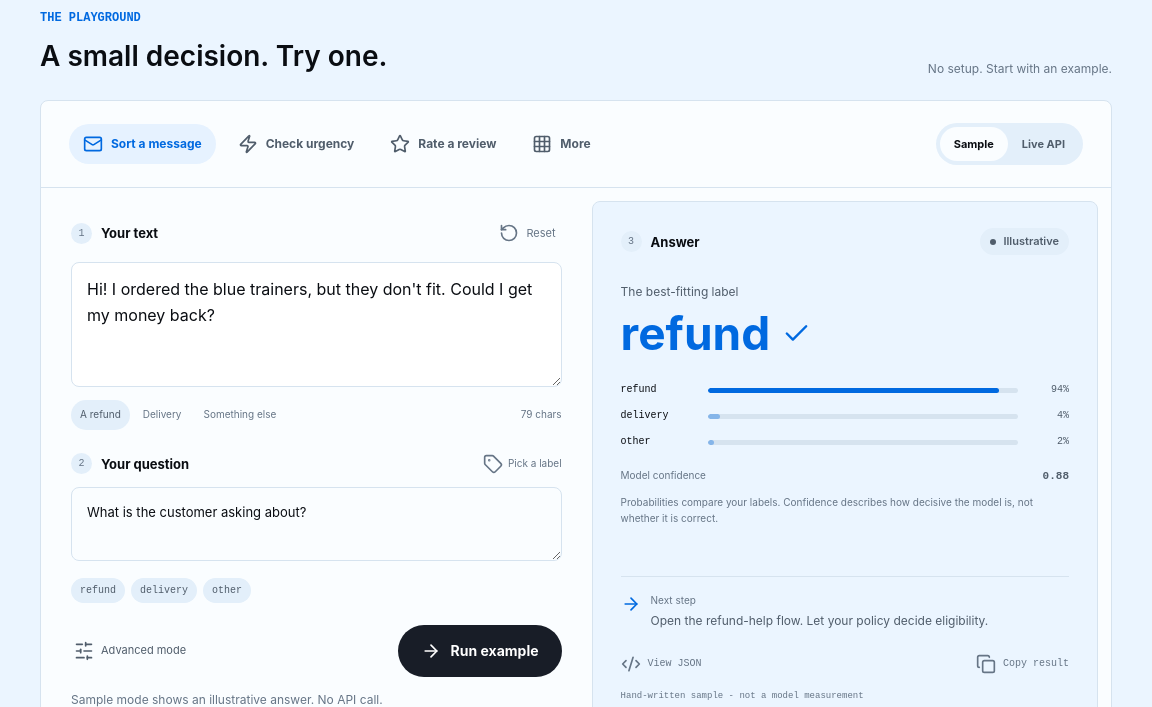
Test case: landing request lifecycle › ignores a response settled after an edit
The width and height of the screenshot is (1152, 707).
Click the button "Live API" at (1043, 144), box [1008,127,1079,161]
(page scrolled)
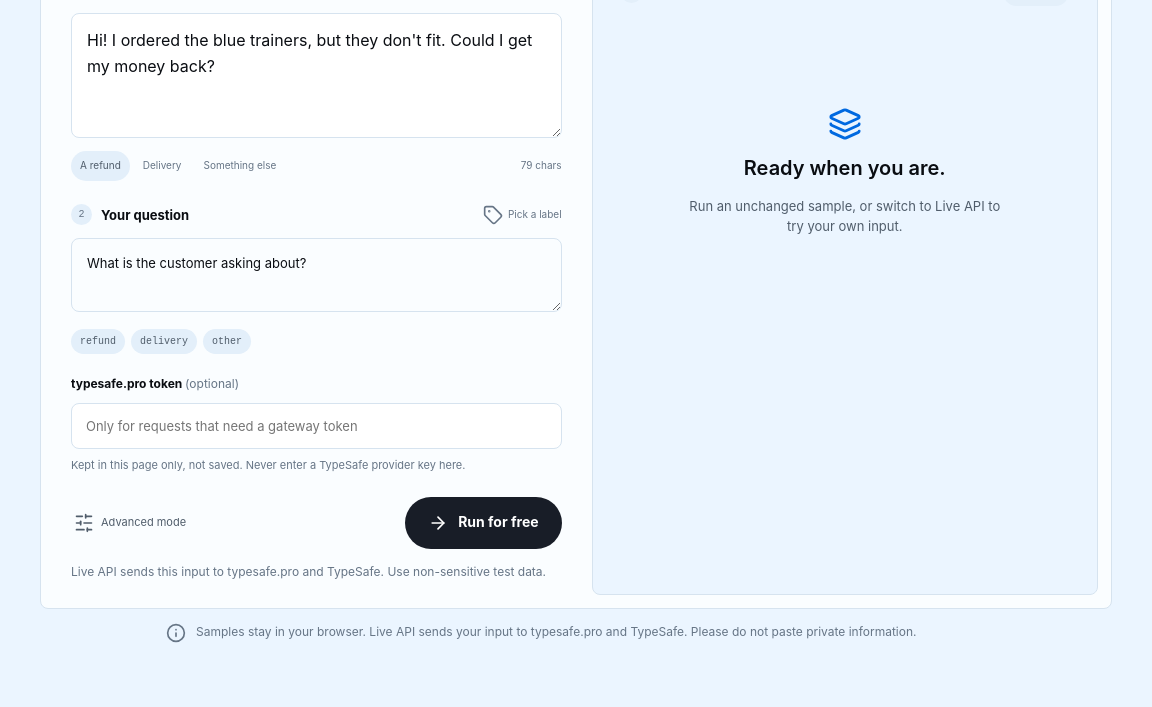
Click the button "Run for free" at (483, 522), box [405,496,562,548]
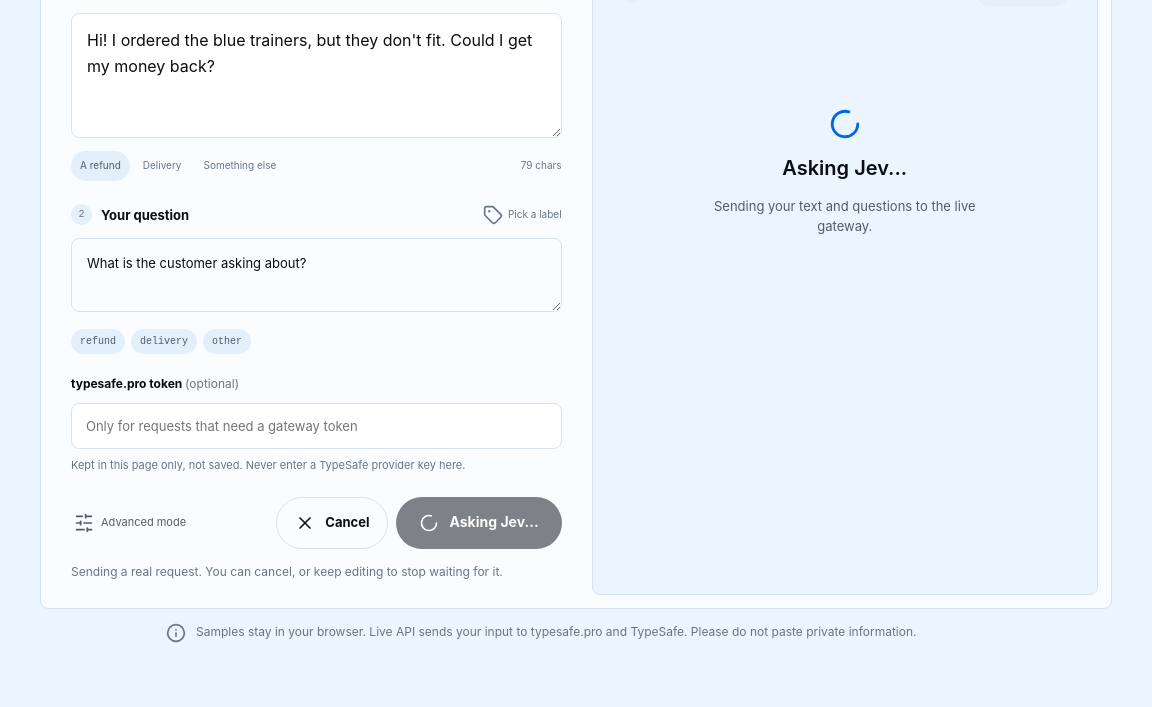
Replace the text in the text box labelled "1 Your text" with "Changed input" at (316, 76), box [71,13,562,138]
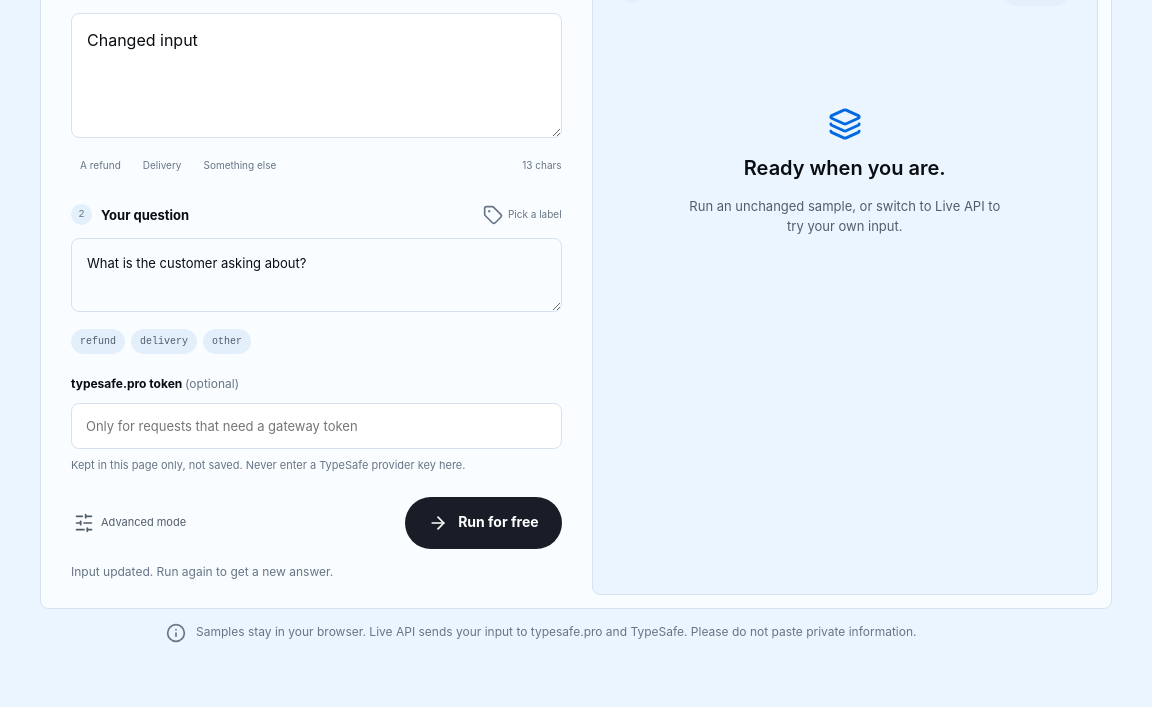
Now the text "Input updated. Run again to get a new answer." is shown, box [71,564,333,578]
